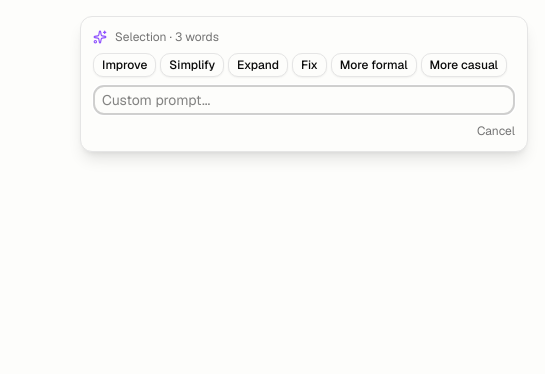
Test: InlineAI › should show card-based chooser with original as first card
Click the button "Improve": (125, 65) [93,53,156,77]
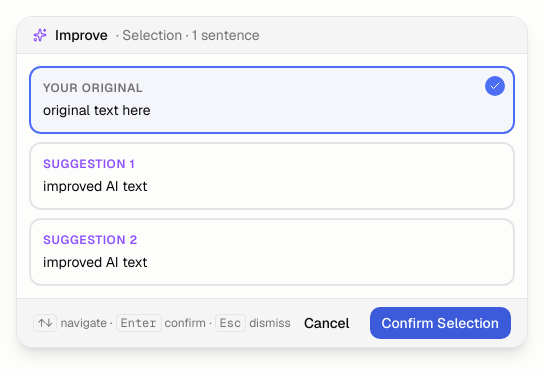
Expected: the element with test id "inline-ai-chooser" is shown
Expected: the button with test id "choice-original" shows "YOUR ORIGINAL", [29,66,515,134]
Expected: the button with test id "choice-original" shows "original text here", [29,66,515,134]
